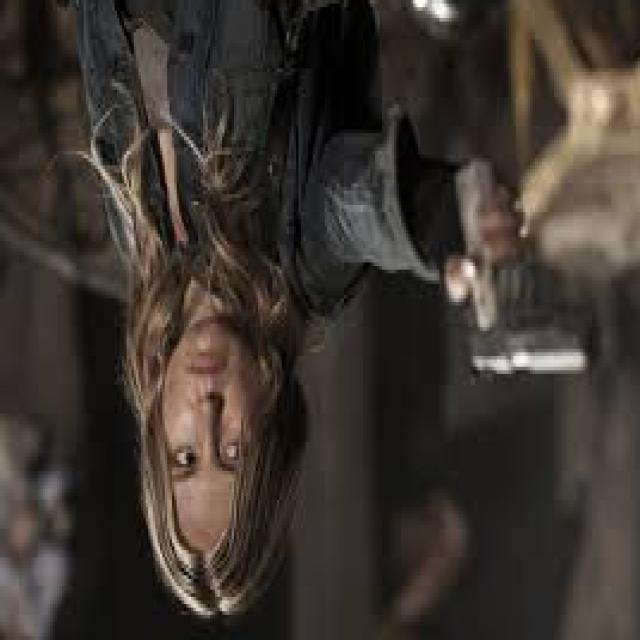gun: (449, 148, 602, 398)
